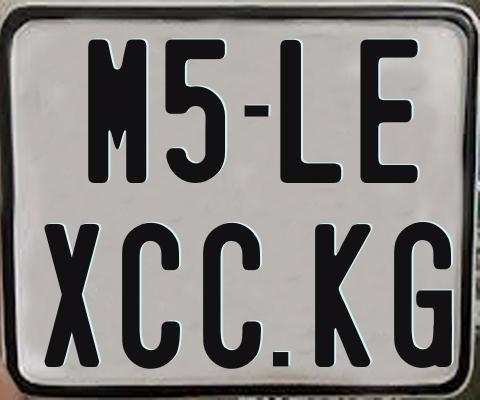5: (163, 36, 229, 183)
C: (203, 221, 267, 371), (122, 221, 183, 370)
E: (360, 36, 419, 183)
G: (394, 220, 453, 372)
K: (312, 224, 369, 370)
L: (278, 37, 342, 183)
M: (86, 37, 147, 182)
X: (44, 221, 100, 370)
